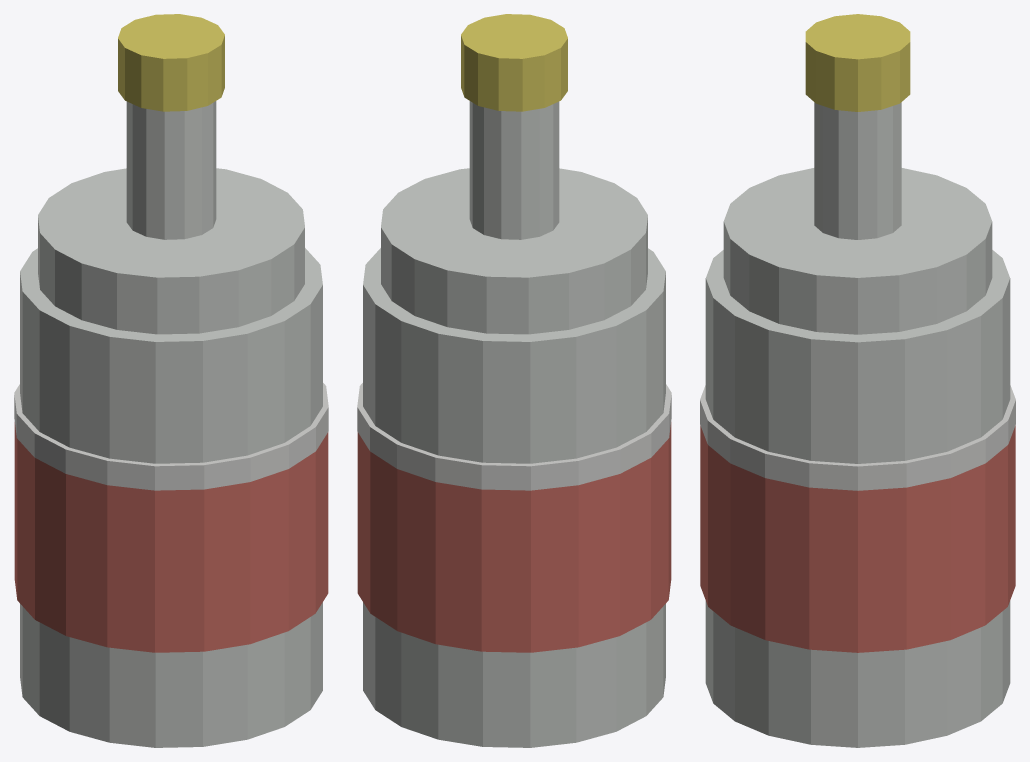
The model's file is bouteille_ricard.glb.
The picture shows the model from 3 angles, left to right: view 1: azimuth 30°, elevation 25°; view 2: azimuth 150°, elevation 25°; view 3: azimuth 270°, elevation 25°; orthographic projection.
Parts seen in each view (by area): view 1: world; view 2: world; view 3: world.
Boxes of the visible parts, bbox=[...] form: world: bbox=[14, 14, 328, 747]; world: bbox=[357, 14, 671, 747]; world: bbox=[700, 14, 1015, 747].
Size of the model in its own units: 0.706 by 1.6 by 0.706.
